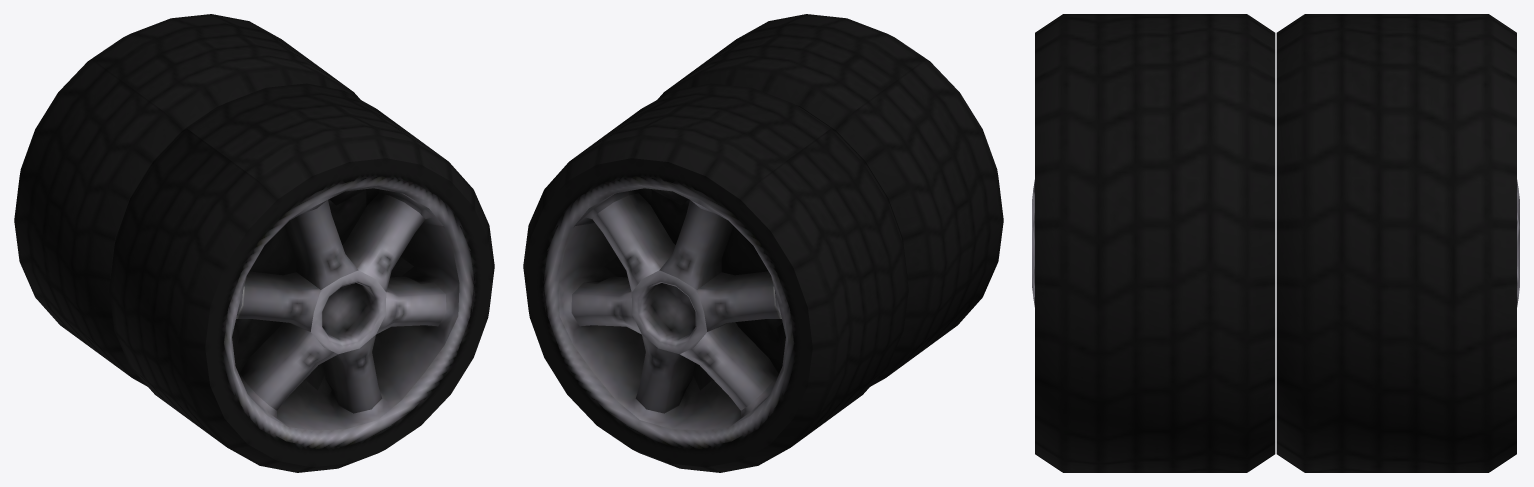
File: doubleWheel.fbx
3 renders of one model, left to right at view 1: azimuth 30°, elevation 25°; view 2: azimuth 150°, elevation 25°; view 3: azimuth 270°, elevation 25°, orthographic. The views are drawn at different scales.
Parts seen in each view (by area): view 1: Mesh11, Mesh12, Mesh013; view 2: Mesh013, Mesh014, Mesh11; view 3: Mesh11, Mesh013.
Boxes of the visible parts, x1,y1,x2,y2 form: Mesh11: (109,83,494,472); Mesh12: (223,176,476,449); Mesh013: (14,14,360,386); Mesh013: (523,83,908,472); Mesh014: (542,176,795,449); Mesh11: (657,14,1003,386); Mesh11: (1035,14,1275,472); Mesh013: (1276,14,1516,472).
Size of the model in its own units: 0.3638 by 0.3638 by 0.3852.
2 materials, 2 textured.
